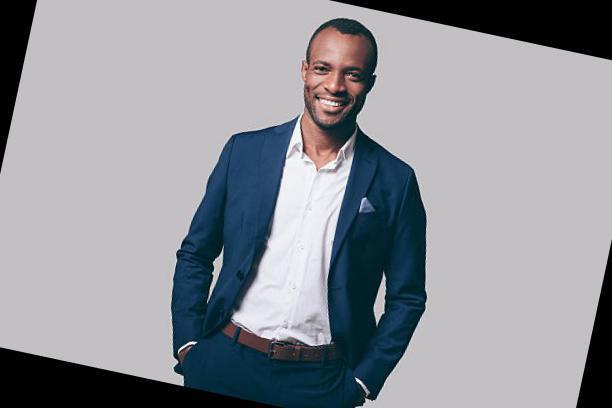Sober: (306, 32, 368, 122)
